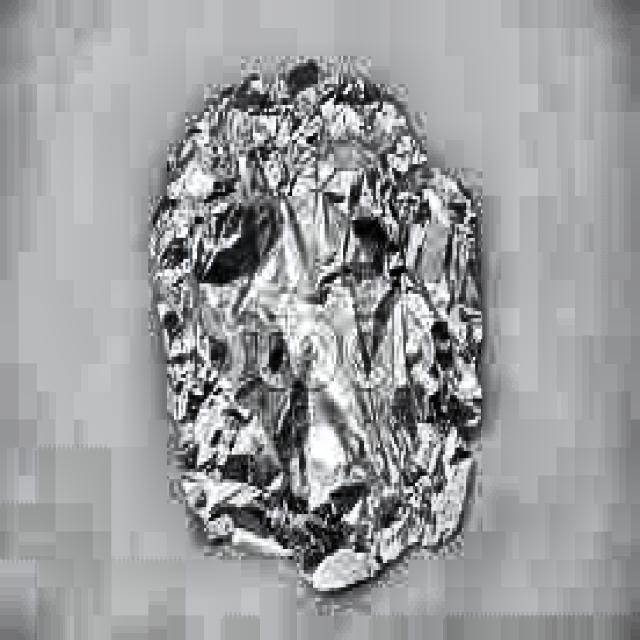Foil: (149, 82, 508, 602)
